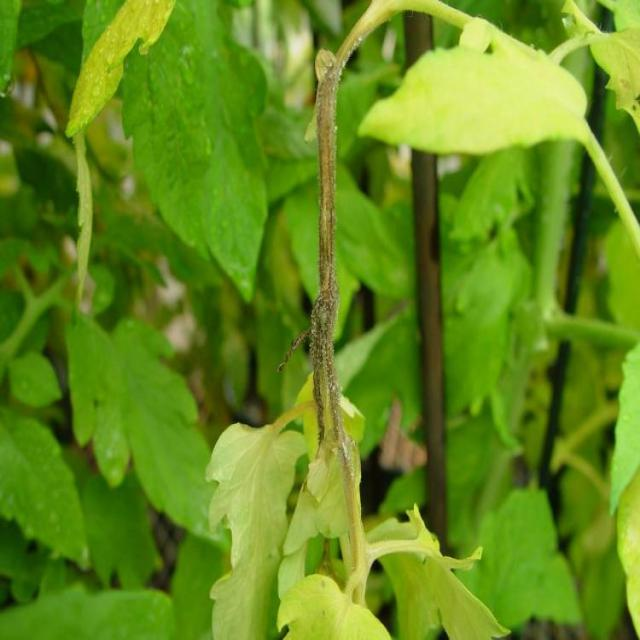Tomato healthy leaf: (122, 0, 274, 304), (66, 310, 218, 547)
Tomato mold leaf: (356, 42, 591, 158), (202, 420, 309, 640)
